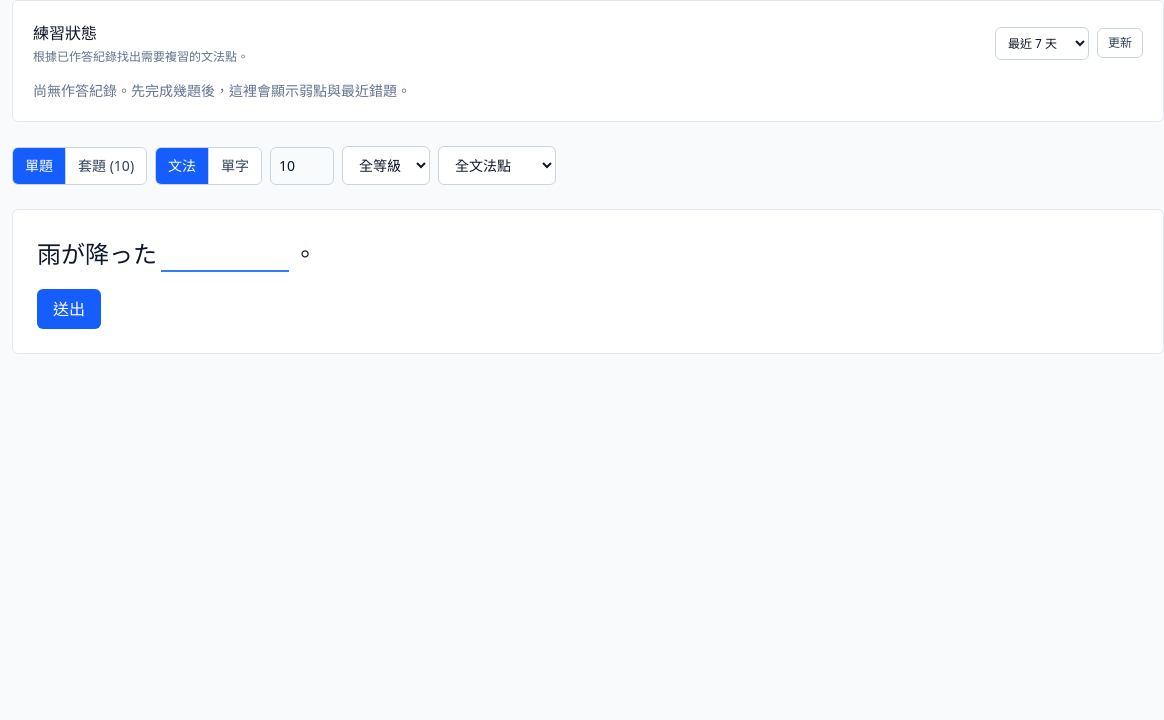
Scenario: QuizTab › hides Chinese grading explanation by default
Expected: the text "雨が降った" is shown, 37,237 -> 293,270
Type "はず" into the field at coordinates (225, 255), box 161,238 -> 289,272
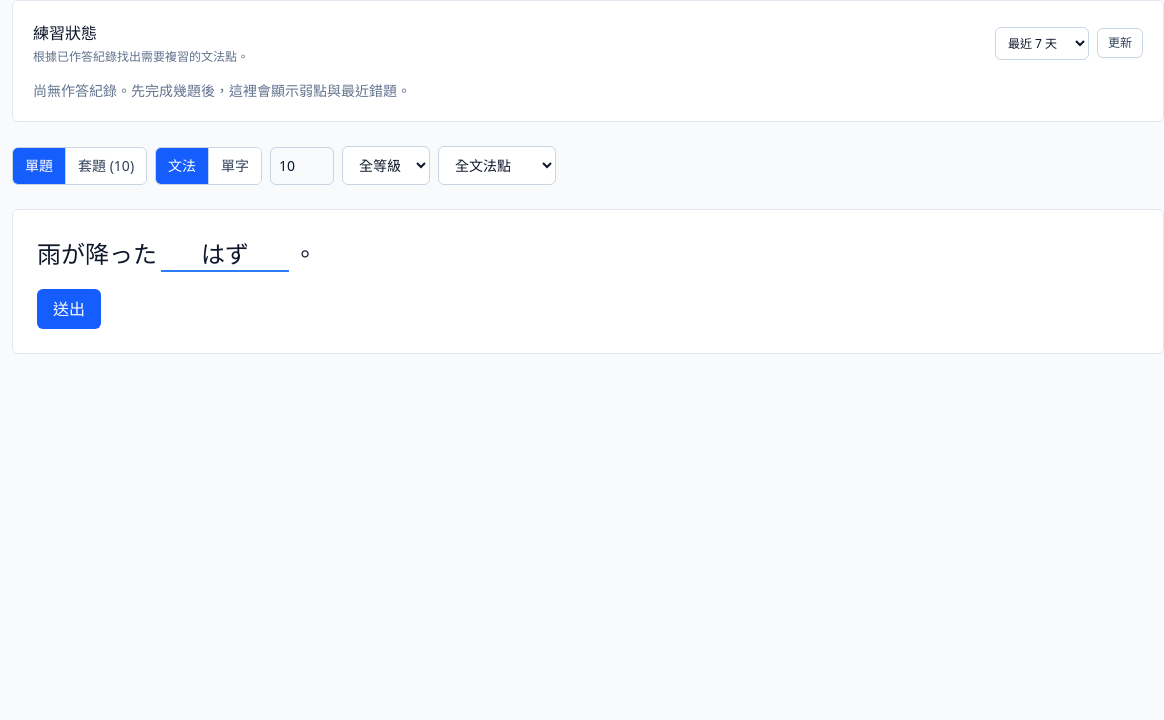
Click the button "送出" at coordinates (69, 309), box 37,289 -> 101,329
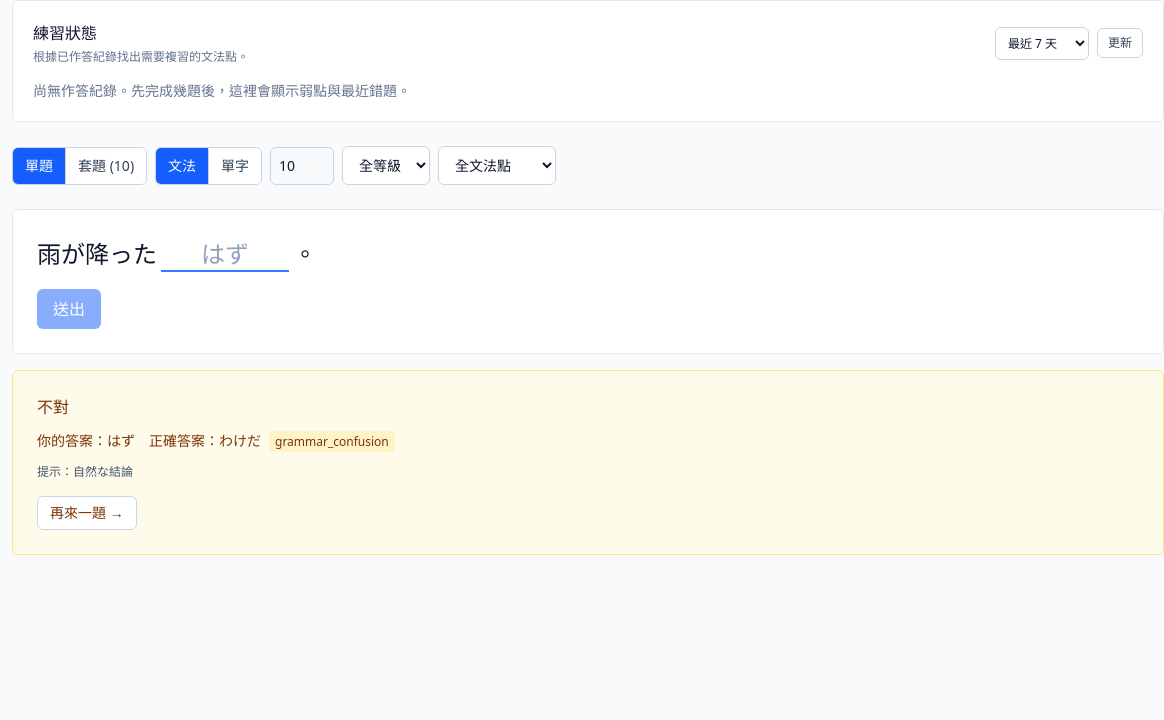
Expected: the text "不對" is shown, 37,396 -> 69,418
